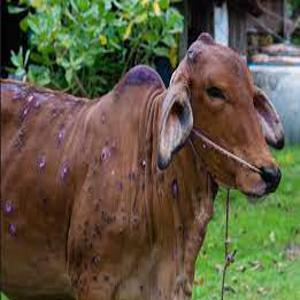lumpy skin diesease: (0, 31, 285, 299)
